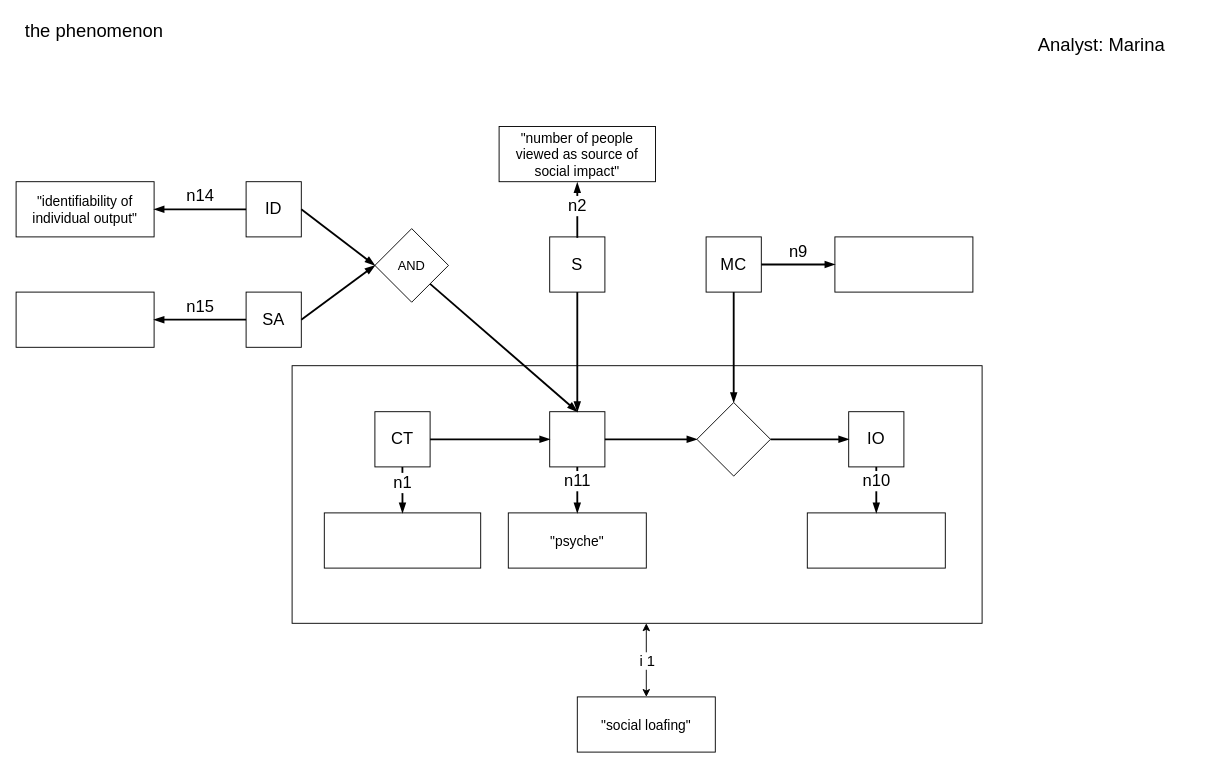
Some shapes in this 1219 by 768 pixel diagram are drawn without their labels. Here are the shapes that lost their labels. From the top down, the box of each, then its label:
(834, 236, 973, 292): "maximal capacity of indiviudal"
(15, 291, 154, 347): "standard available"
(549, 411, 605, 467): Psy
(323, 512, 481, 568): "number of people also viewed as targets of social impact"
(806, 512, 945, 568): "individual output"
